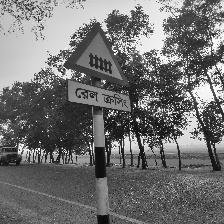Rail-crossing: (63, 23, 133, 115)
